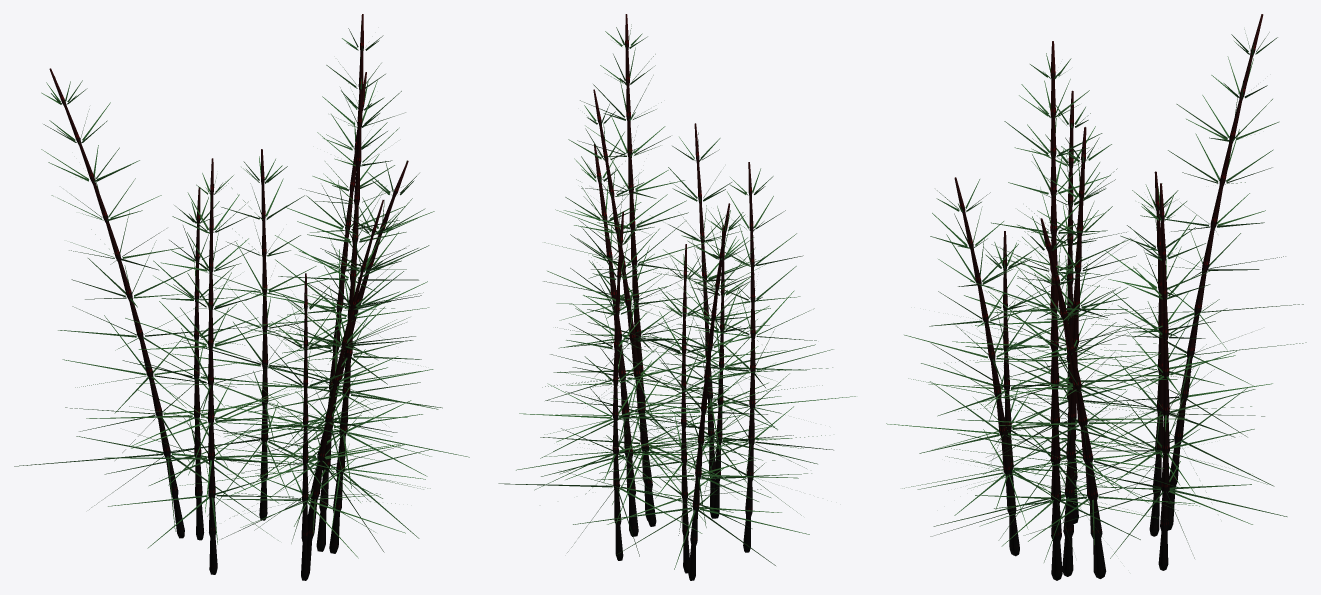
File: horsetail_v02_LOD1.glb
The picture shows the model from 3 angles, left to right: view 1: azimuth 30°, elevation 25°; view 2: azimuth 150°, elevation 25°; view 3: azimuth 270°, elevation 25°; orthographic projection. The views are drawn at different scales.
Parts seen in each view (by area): view 1: horsetail_v02_LOD1; view 2: horsetail_v02_LOD1; view 3: horsetail_v02_LOD1.
Boxes of the visible parts, x1,y1,x2,y2 form: horsetail_v02_LOD1: (14, 14, 469, 580); horsetail_v02_LOD1: (498, 14, 855, 580); horsetail_v02_LOD1: (886, 14, 1306, 580).
Bounding box in the file's own units: 0.3592 × 0.5459 × 0.3772.
Materials: 2 (2 with a texture image).
